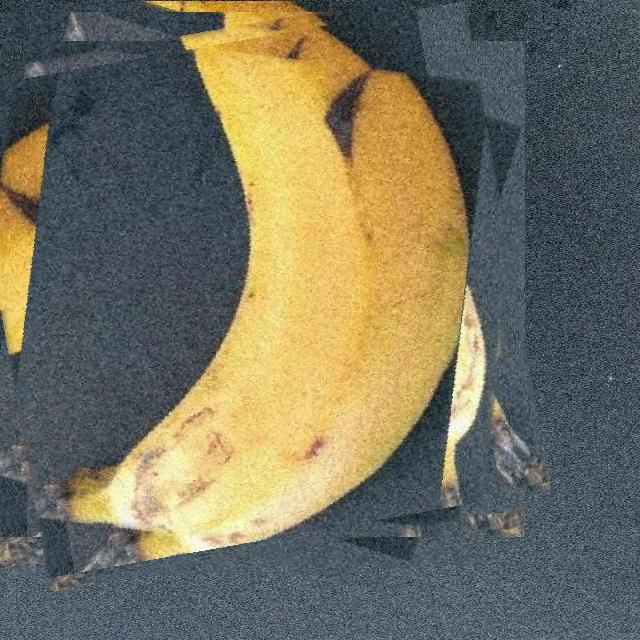Madura: (0, 6, 531, 571)
